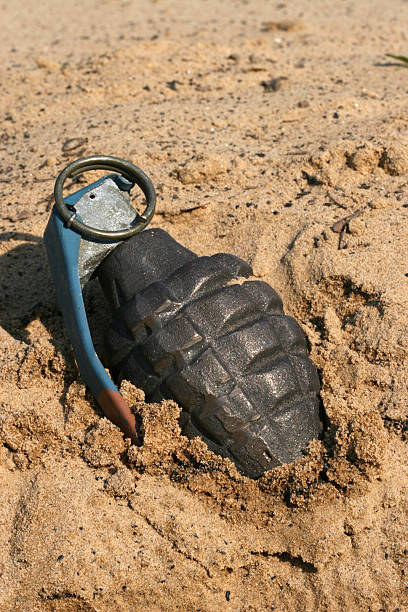e1: (38, 153, 329, 480)
